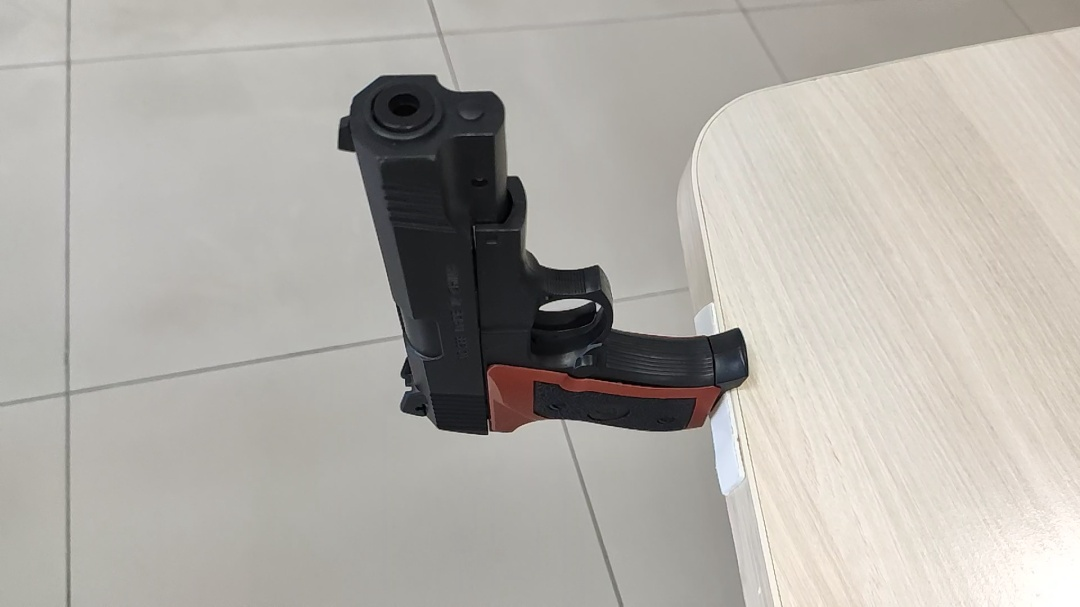gun: (588, 231, 635, 249)
